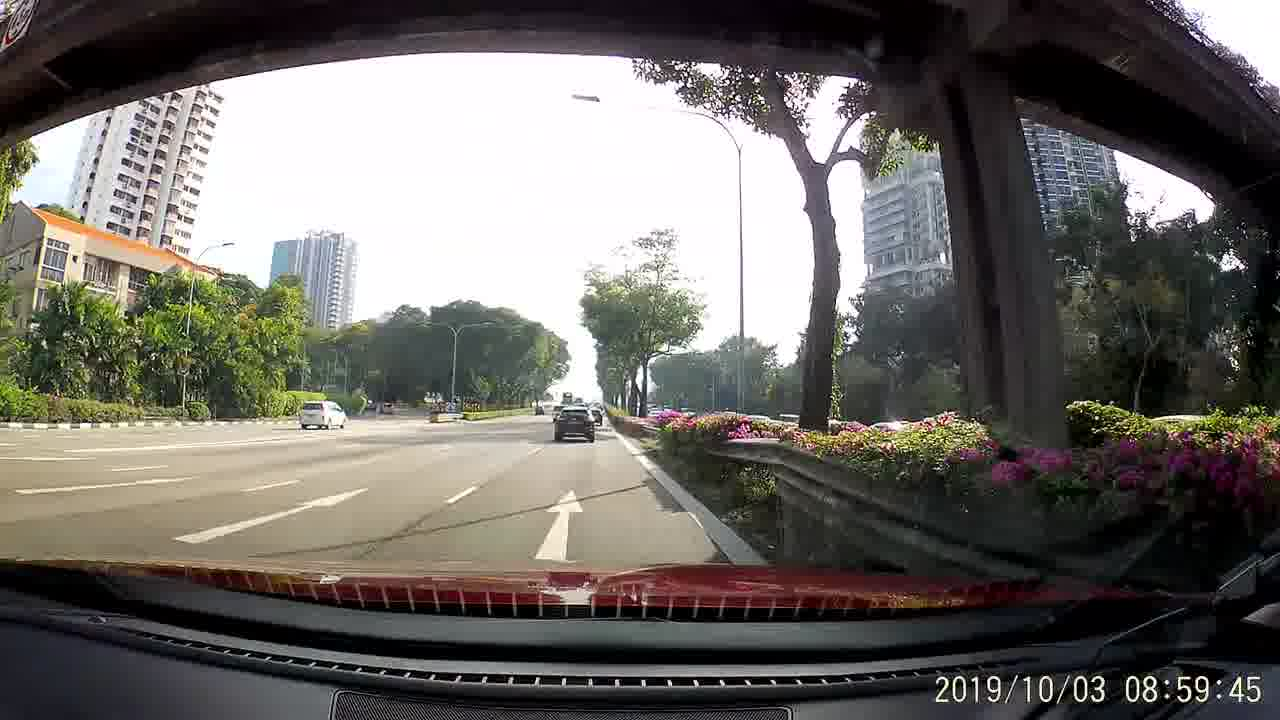car: (552, 406, 595, 443), (297, 398, 348, 429), (586, 405, 605, 431), (533, 401, 544, 417)
